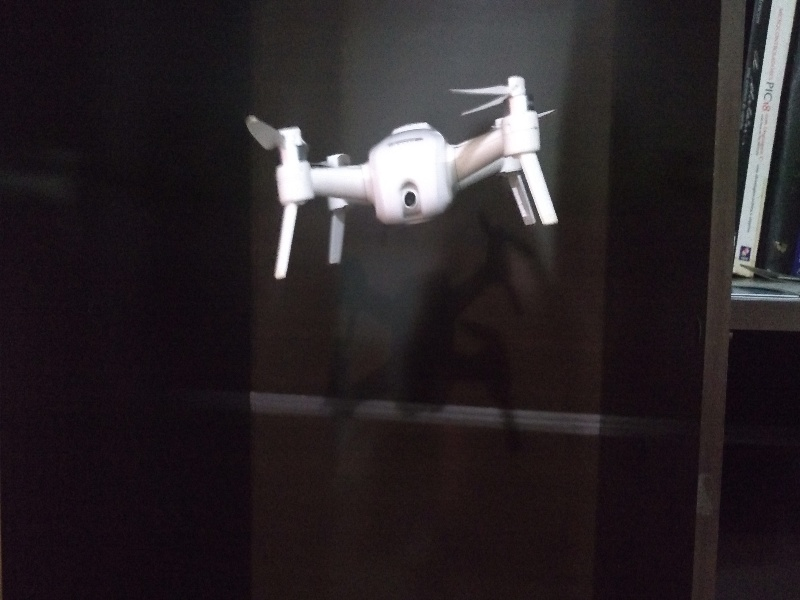drone: (239, 70, 572, 272)
